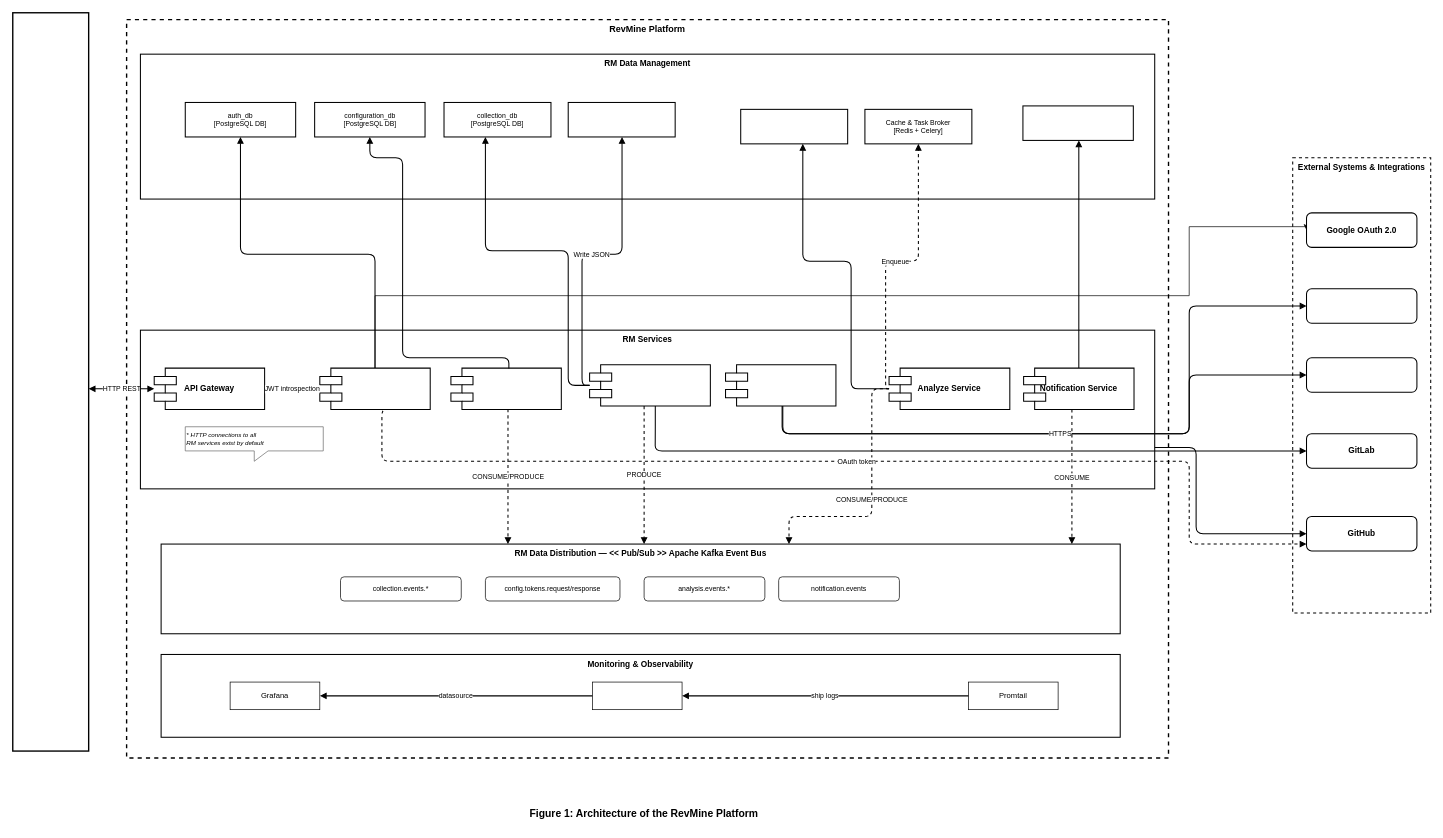
This 1443x838 diagram has some shape labels left out. The shapes that lost their labels are listed below. From the top down, each one's centre as x and y in pixels, then its label:
At [621,119]: "revmine-collections [MinIO Object Store]".
At [794,126]: "analyze_db [PostgreSQL DB]".
At [1078,123]: "notification_db [PostgreSQL DB]".
At [1361,305]: "Ollama (Local LLM)".
At [50,381]: "User Interface (Browser)".
At [374,388]: "Authentication Service".
At [506,388]: "Configuration Service".
At [650,385]: "Collection Service".
At [780,385]: "LLM Service".
At [1361,374]: "OpenRouter (Cloud LLM)".
At [637,695]: "Loki".
